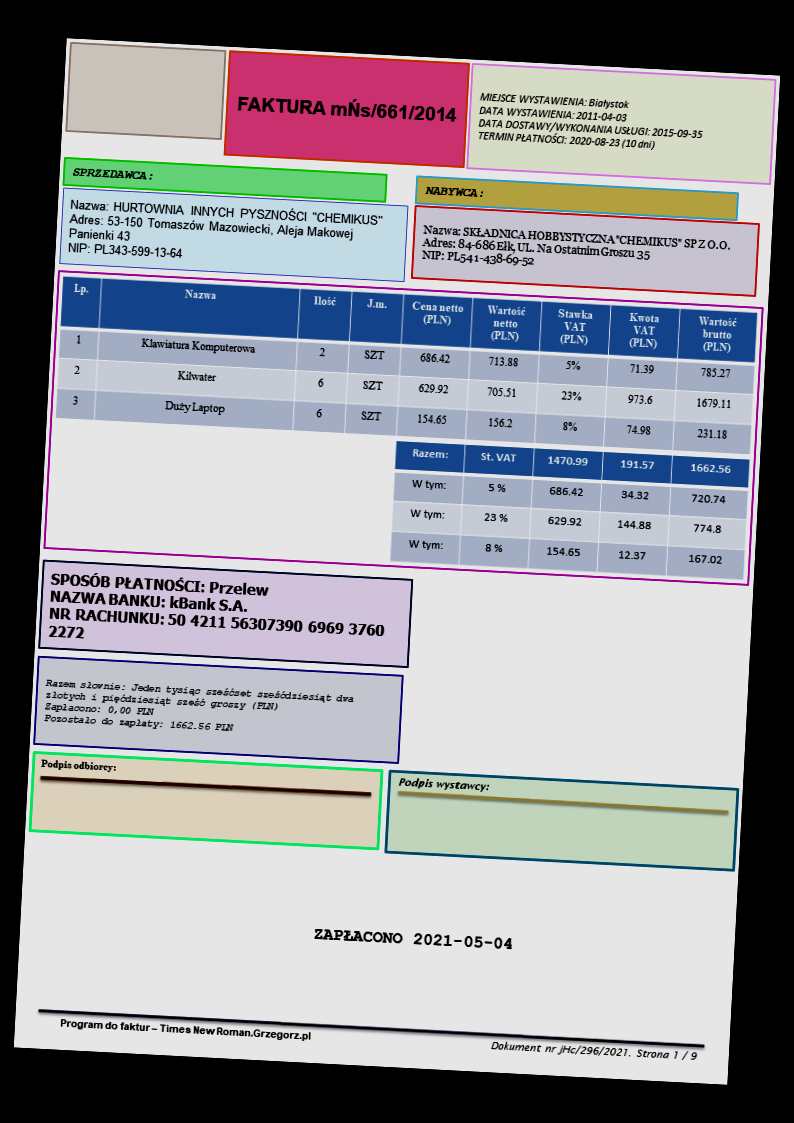Table: (55, 275, 758, 456), (388, 439, 751, 581)
TextBox: (45, 569, 388, 658), (65, 195, 386, 272), (41, 675, 357, 741), (419, 221, 733, 279), (476, 89, 706, 154), (236, 91, 459, 124), (58, 1016, 313, 1044), (312, 924, 515, 953), (488, 1038, 699, 1063), (396, 776, 491, 794), (71, 165, 154, 182), (39, 756, 116, 774), (422, 184, 485, 200)
